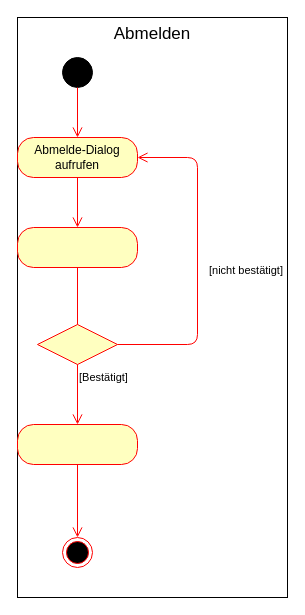
The diagram is 305 pixels wide and 615 high, and some of its shapes have lost their labels. Here are the shapes that lost their labels. From the top down, the centre of each, then its label:
At [77,247]: "Benutzerinteraktion".
At [77,444]: "zum externen Bereich weiterleiten".
